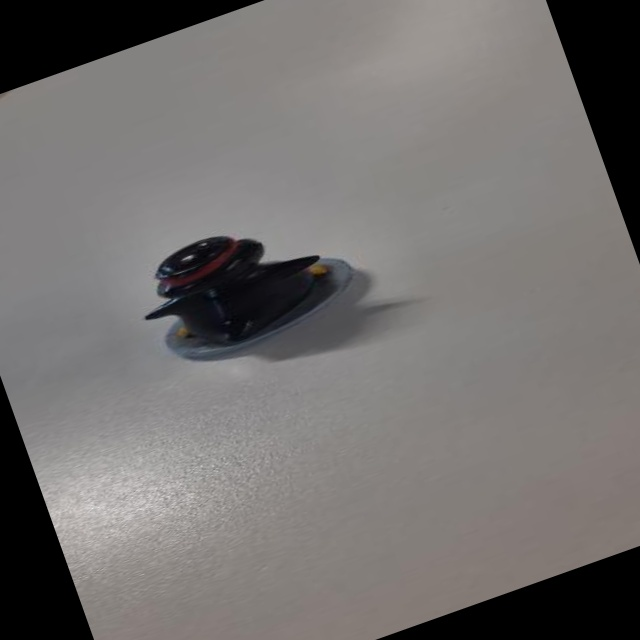Penguin: (126, 190, 373, 382)
